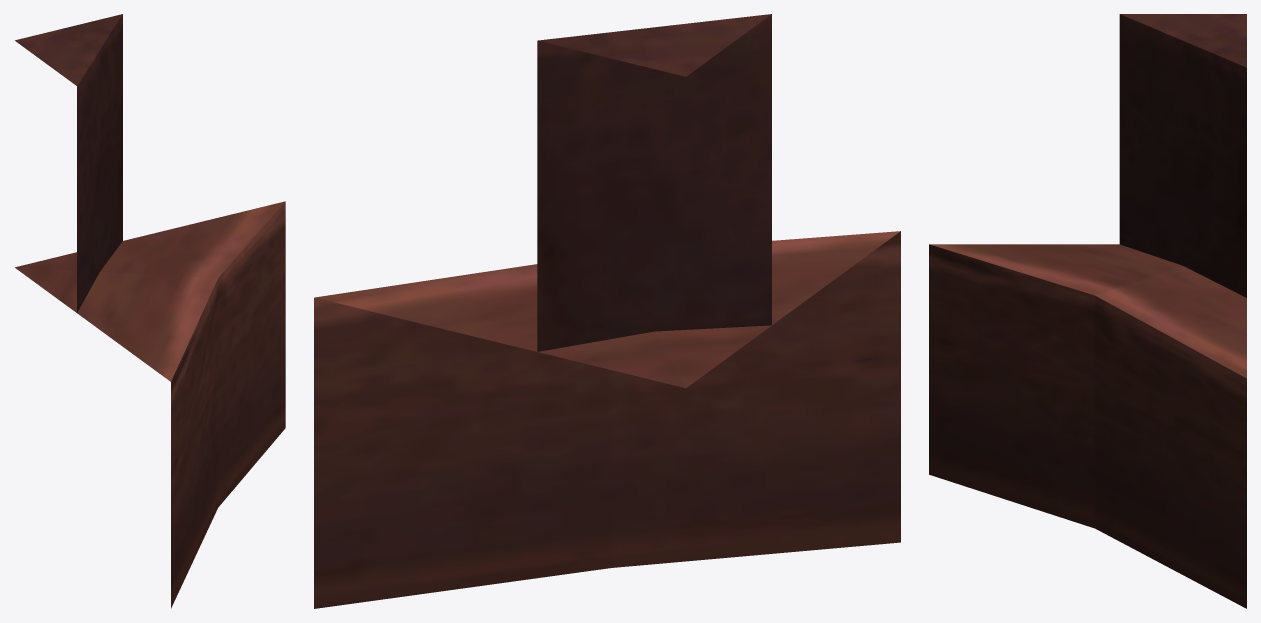
The model's file is lava_railing_convex_01.fbx.
The picture shows the model from 3 angles, left to right: view 1: azimuth 30°, elevation 25°; view 2: azimuth 150°, elevation 25°; view 3: azimuth 270°, elevation 25°; orthographic projection. The views are drawn at different scales.
Parts seen in each view (by area): view 1: obj1.031; view 2: obj1.031; view 3: obj1.031.
Boxes of the visible parts, x1,y1,x2,y2 form: obj1.031: (15, 14, 285, 608); obj1.031: (314, 14, 900, 608); obj1.031: (929, 14, 1246, 608).
Size of the model in its own units: 0.625 by 1 by 0.625.
